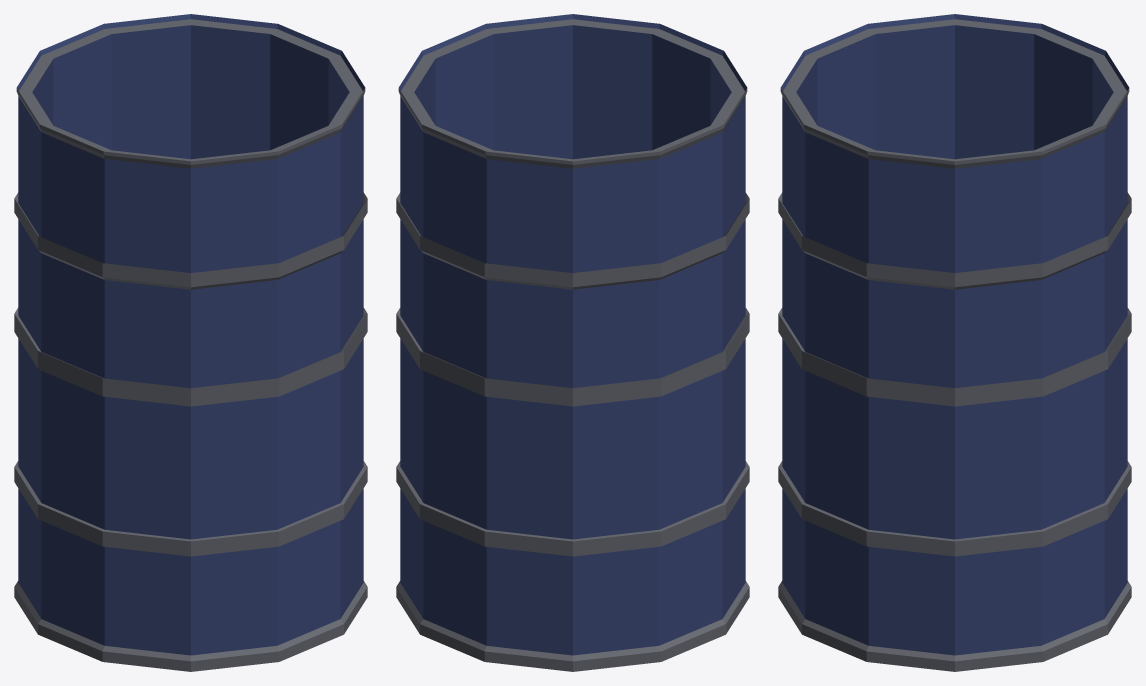
File: Trashcan.fbx
3 views of the same model, side by side, from view 1: azimuth 30°, elevation 25°; view 2: azimuth 150°, elevation 25°; view 3: azimuth 270°, elevation 25° (orthographic).
Parts seen in each view (by area): view 1: pCylinder1; view 2: pCylinder1; view 3: pCylinder1.
Boxes of the visible parts, x1,y1,x2,y2 form: pCylinder1: [14, 14, 367, 671]; pCylinder1: [396, 14, 749, 671]; pCylinder1: [778, 14, 1131, 671].
Bounding box in the file's own units: 2.05 × 3.26 × 2.05.
